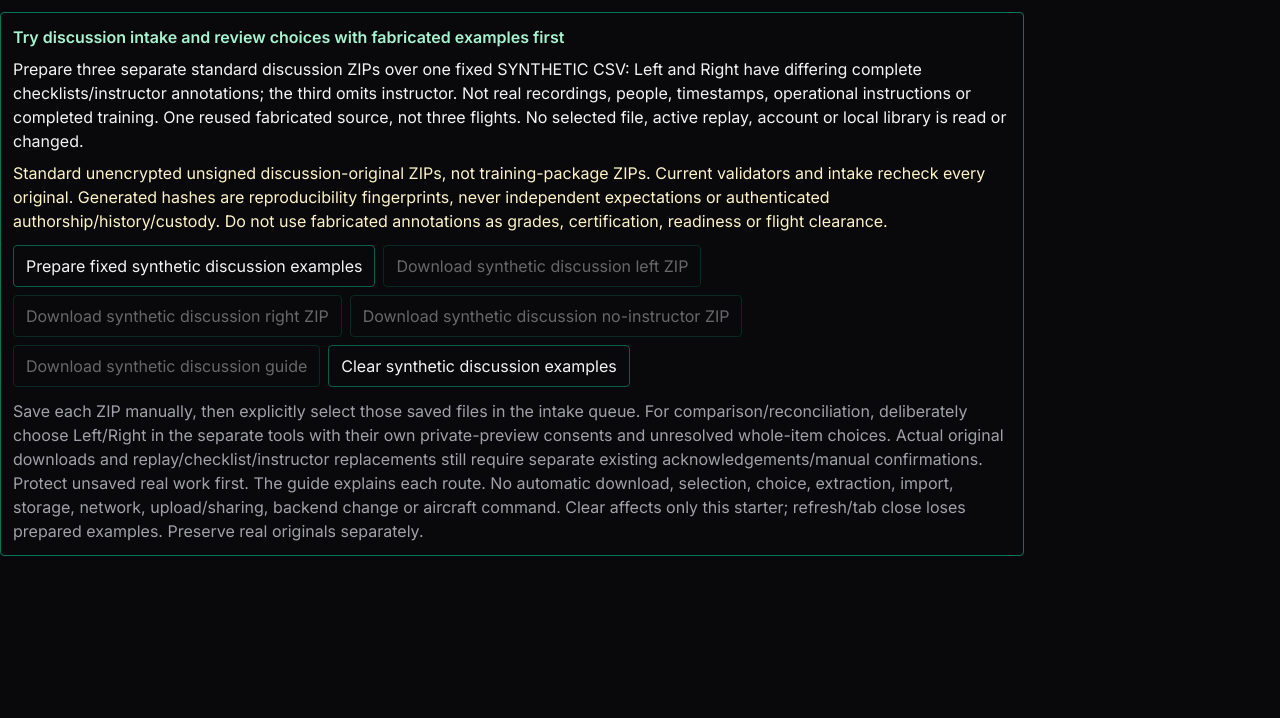
does not generate/read/download automatically, requires explicit preparation and forwards no selected files or workspace
Check: the button "Download synthetic discussion left ZIP" is disabled, box [384,245,701,287]
Click the button "Prepare fixed synthetic discussion examples": (194, 266) [13,245,376,287]
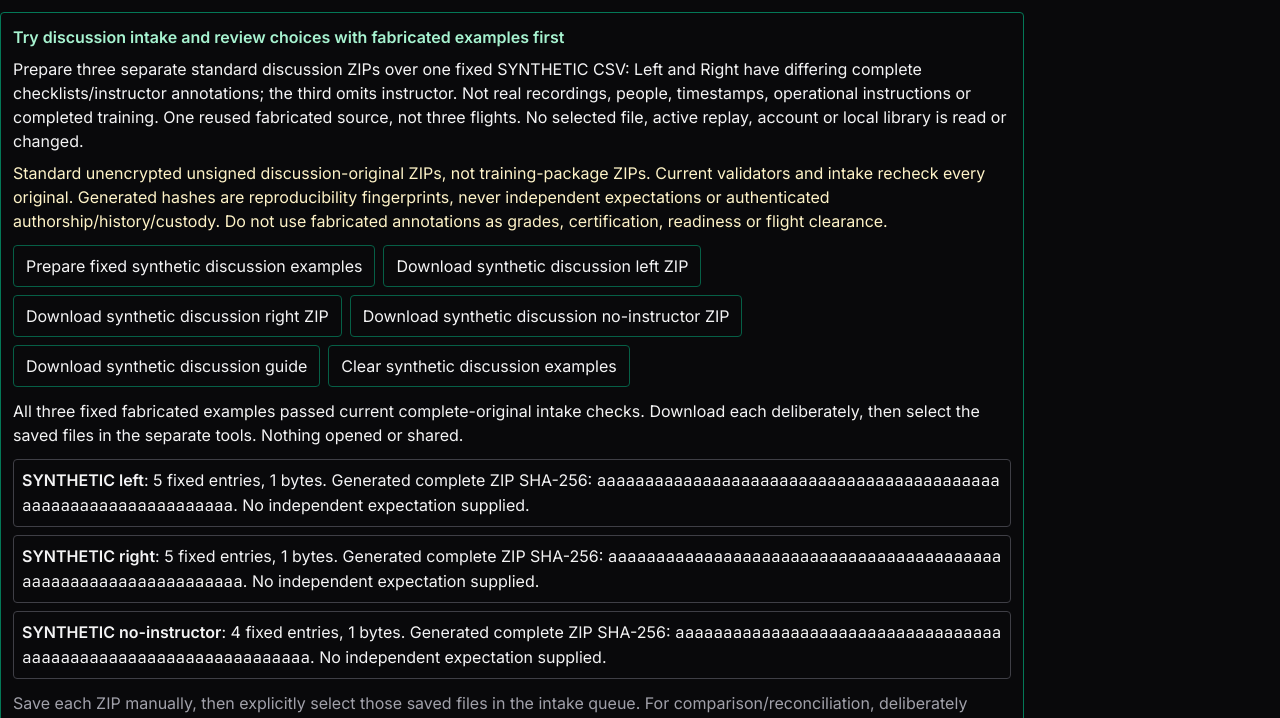
Check: the list named "Prepared synthetic discussion examples" is shown, box [13,459,1011,679]
Check: the message shows "Nothing opened or shared", box [13,401,980,445]
